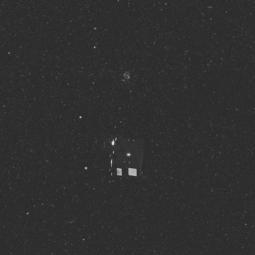proba_3_ocs: (100, 121, 153, 183)
